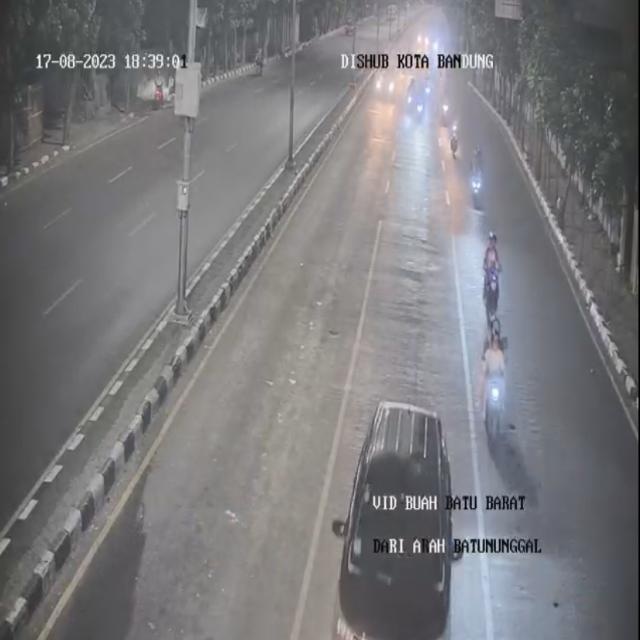cars: (342, 384, 451, 640), (370, 45, 394, 110)
motorcycle: (480, 317, 509, 446), (473, 228, 507, 315), (473, 148, 487, 205), (450, 116, 459, 158), (412, 100, 425, 126), (422, 73, 434, 98), (438, 93, 448, 118), (408, 86, 416, 115)
